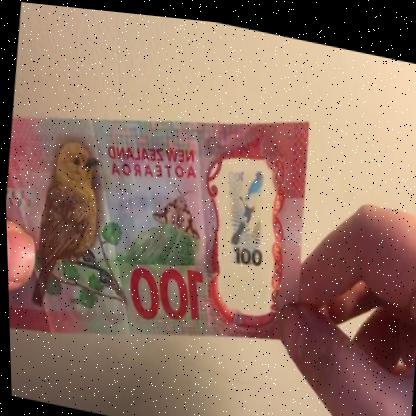100B: (210, 147, 271, 288)
